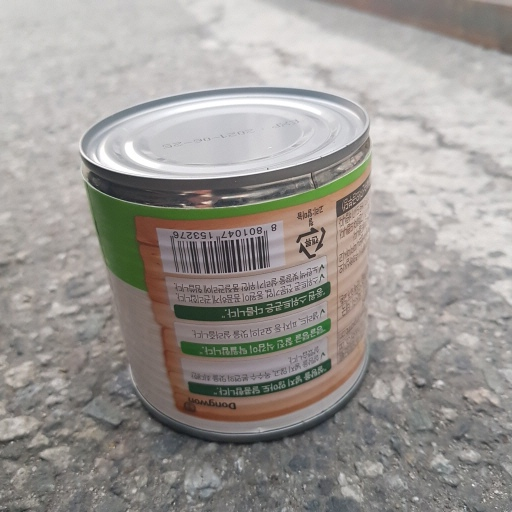Metal_1: (75, 81, 383, 439)
